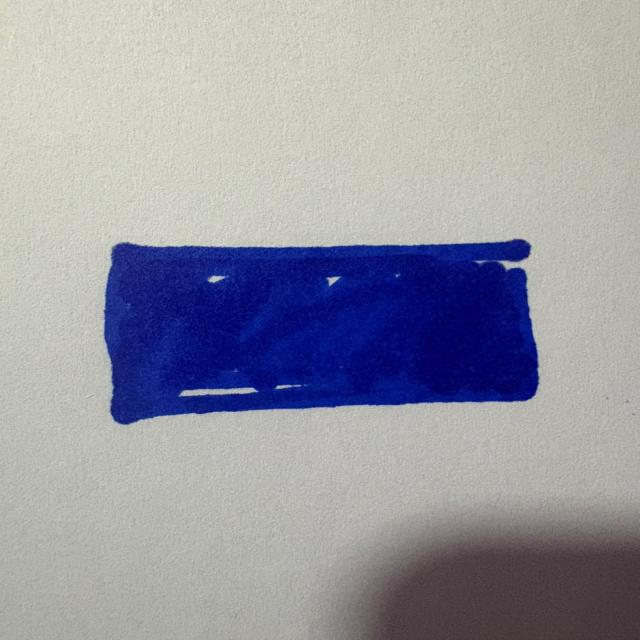Rectangle: (104, 239, 539, 424)
